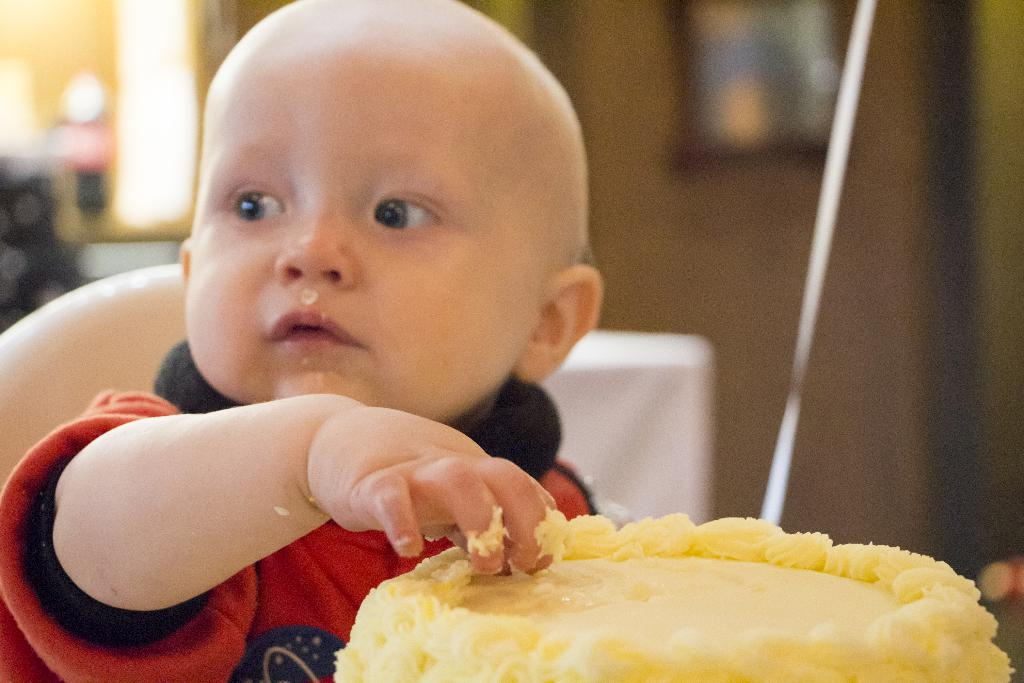cake: (330, 513, 1012, 682)
